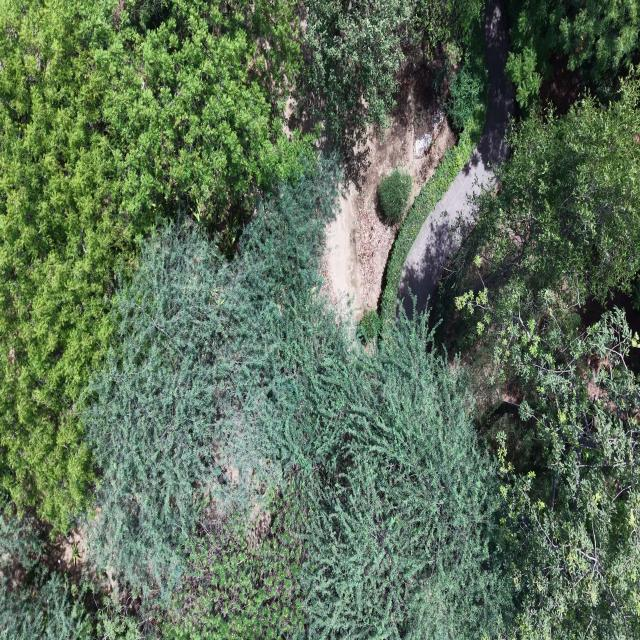DRY_AREA: (323, 64, 455, 320), (323, 68, 455, 319)
PATHWAYS: (399, 0, 513, 317)
VEGETATION_TREE: (0, 0, 639, 639), (85, 165, 508, 637), (88, 166, 507, 637), (0, 0, 309, 530), (0, 0, 304, 529), (440, 80, 639, 638), (84, 165, 336, 591), (300, 316, 509, 638), (444, 80, 639, 334), (497, 307, 639, 639), (380, 10, 487, 328), (300, 0, 483, 146), (380, 103, 485, 329), (162, 496, 304, 639), (0, 504, 141, 639), (303, 0, 414, 144), (507, 0, 639, 108), (0, 567, 143, 639), (435, 3, 487, 133), (0, 568, 93, 639), (446, 56, 487, 132), (506, 48, 542, 111), (378, 168, 412, 223), (358, 310, 381, 342)
